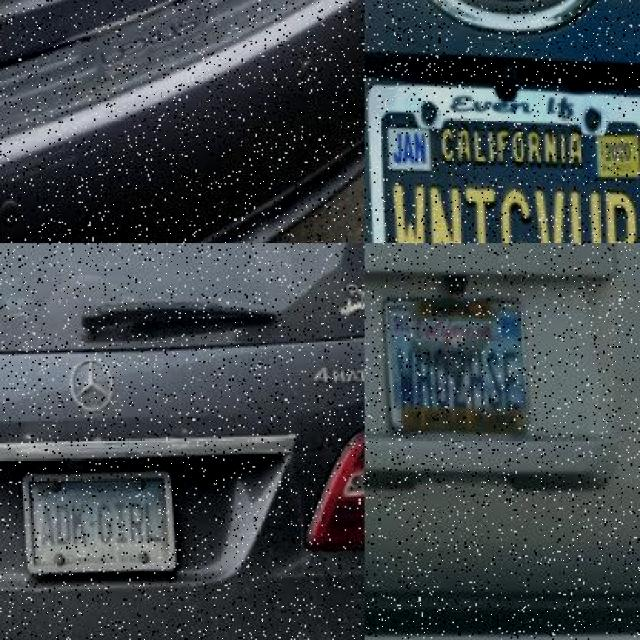licenseplate: (364, 63, 640, 243), (381, 287, 537, 441), (23, 465, 179, 574)
